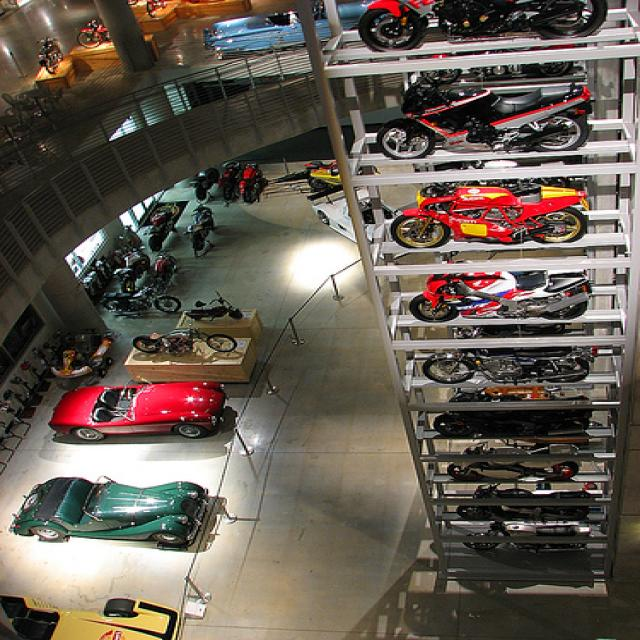Car: (2, 480, 219, 548), (37, 376, 239, 446)
